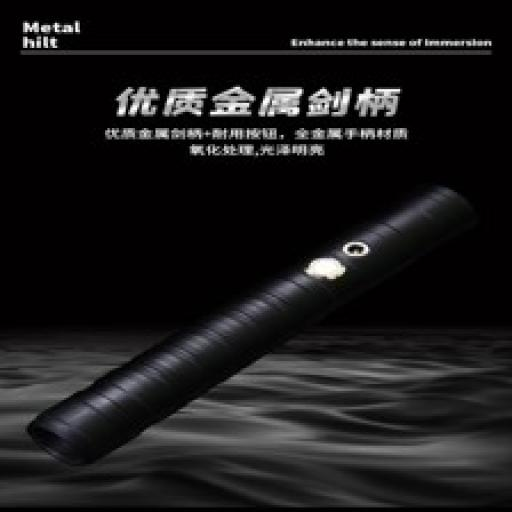lightsaber: (31, 188, 478, 467)
